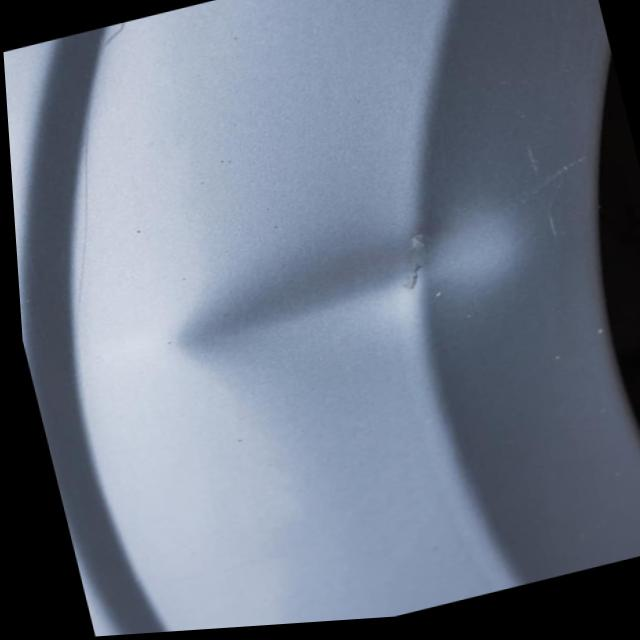Dent: (130, 168, 570, 436)
